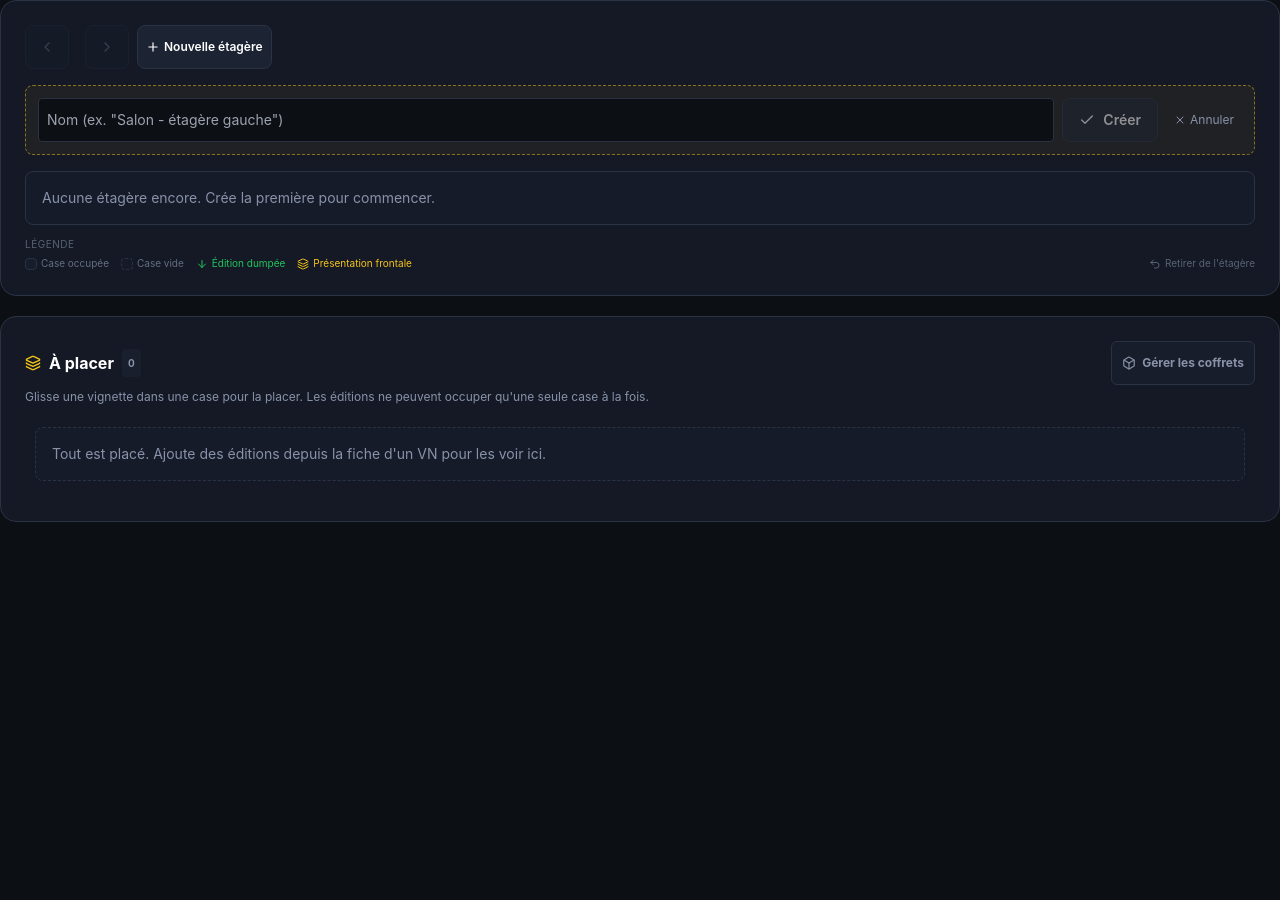
Test: ShelfLayoutEditor › toasts when shelf creation fails
Type "X" into the field with placeholder "Nom (ex. \"Salon - étagère gauche\")" at [546, 120], box top-left (38, 98), bottom-right (1054, 142)
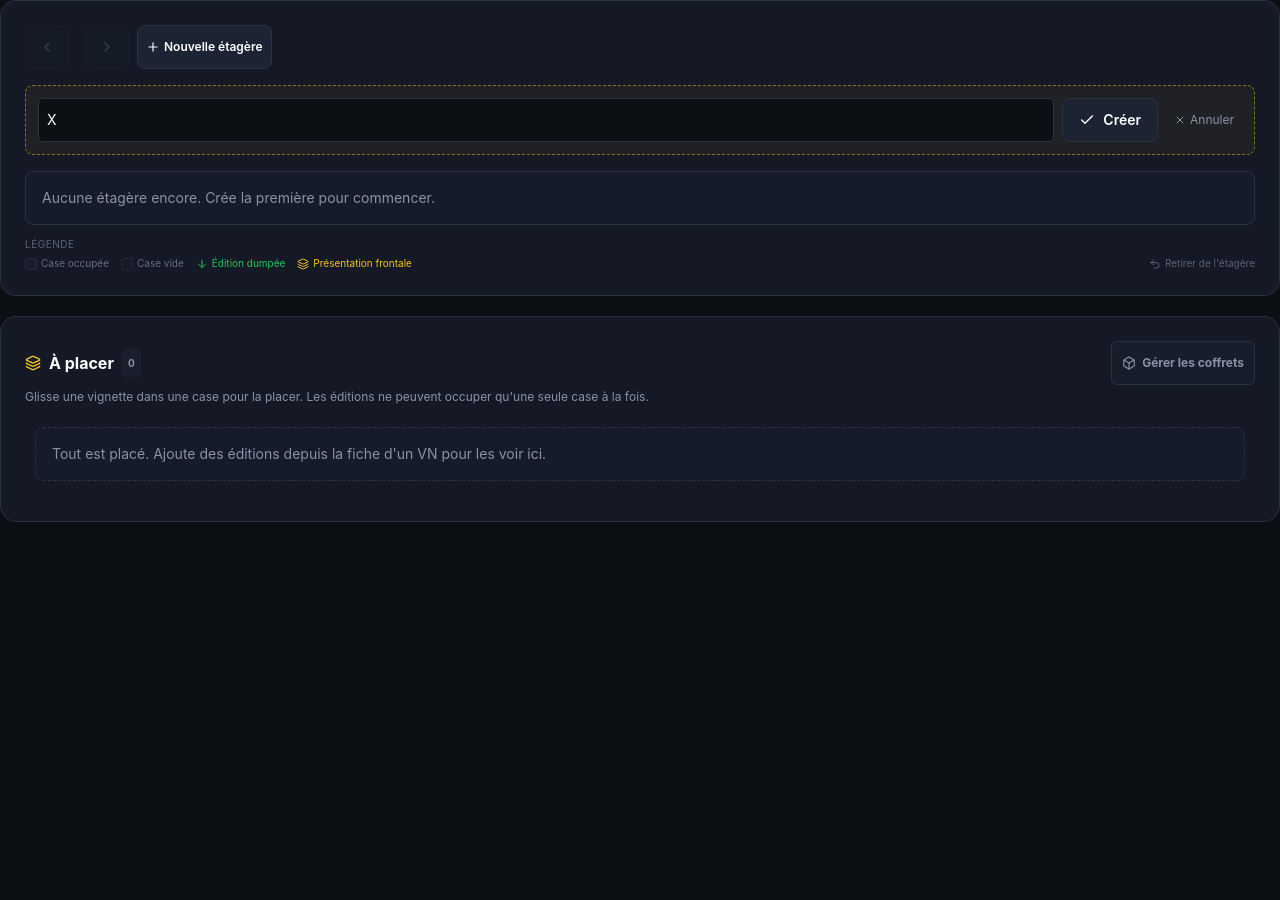
Click the button "Créer" at [1110, 120], box top-left (1062, 98), bottom-right (1158, 142)
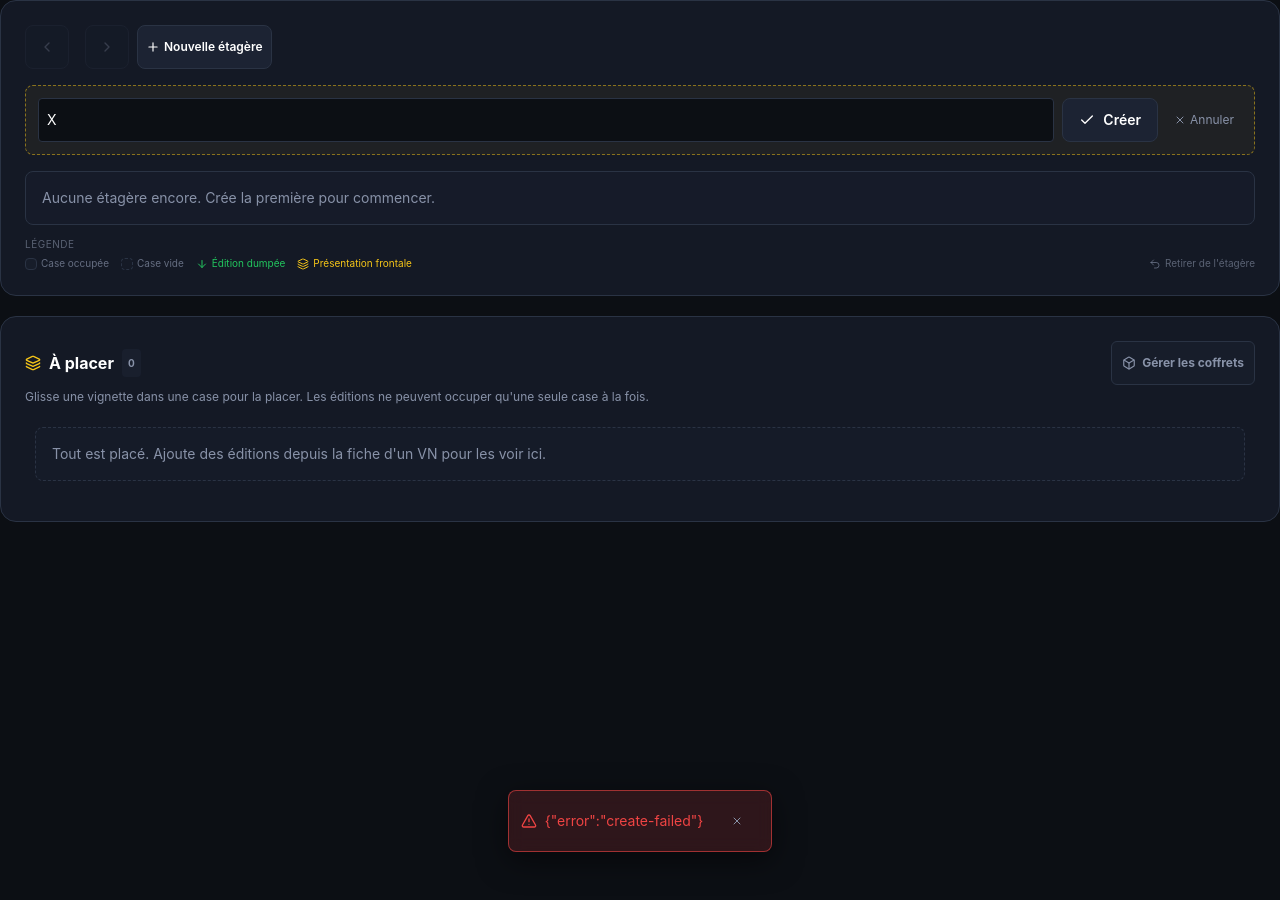
expect the text "create-failed" is shown: met, box top-left (545, 812), bottom-right (703, 829)
